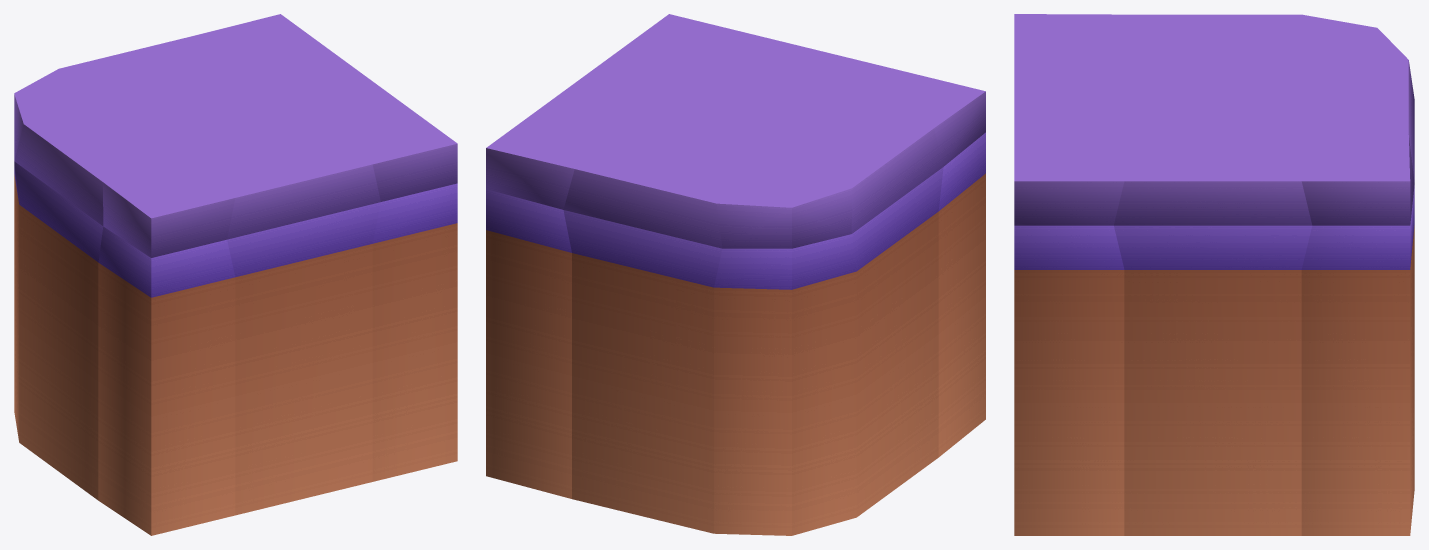
The model's file is bloco de grama 1 canto.glb.
3 renders of one model, left to right at view 1: azimuth 30°, elevation 25°; view 2: azimuth 150°, elevation 25°; view 3: azimuth 270°, elevation 25°, orthographic. The views are drawn at different scales.
Visible parts, largest first — view 1: block-grass; view 2: block-grass; view 3: block-grass.
Boxes of the visible parts, <box> form: block-grass: <box>14,14,457,535</box>; block-grass: <box>486,14,985,535</box>; block-grass: <box>1014,14,1414,535</box>.
Size of the model in its own units: 1.02 by 1 by 1.02.
Materials: 1 (1 with a texture image).
